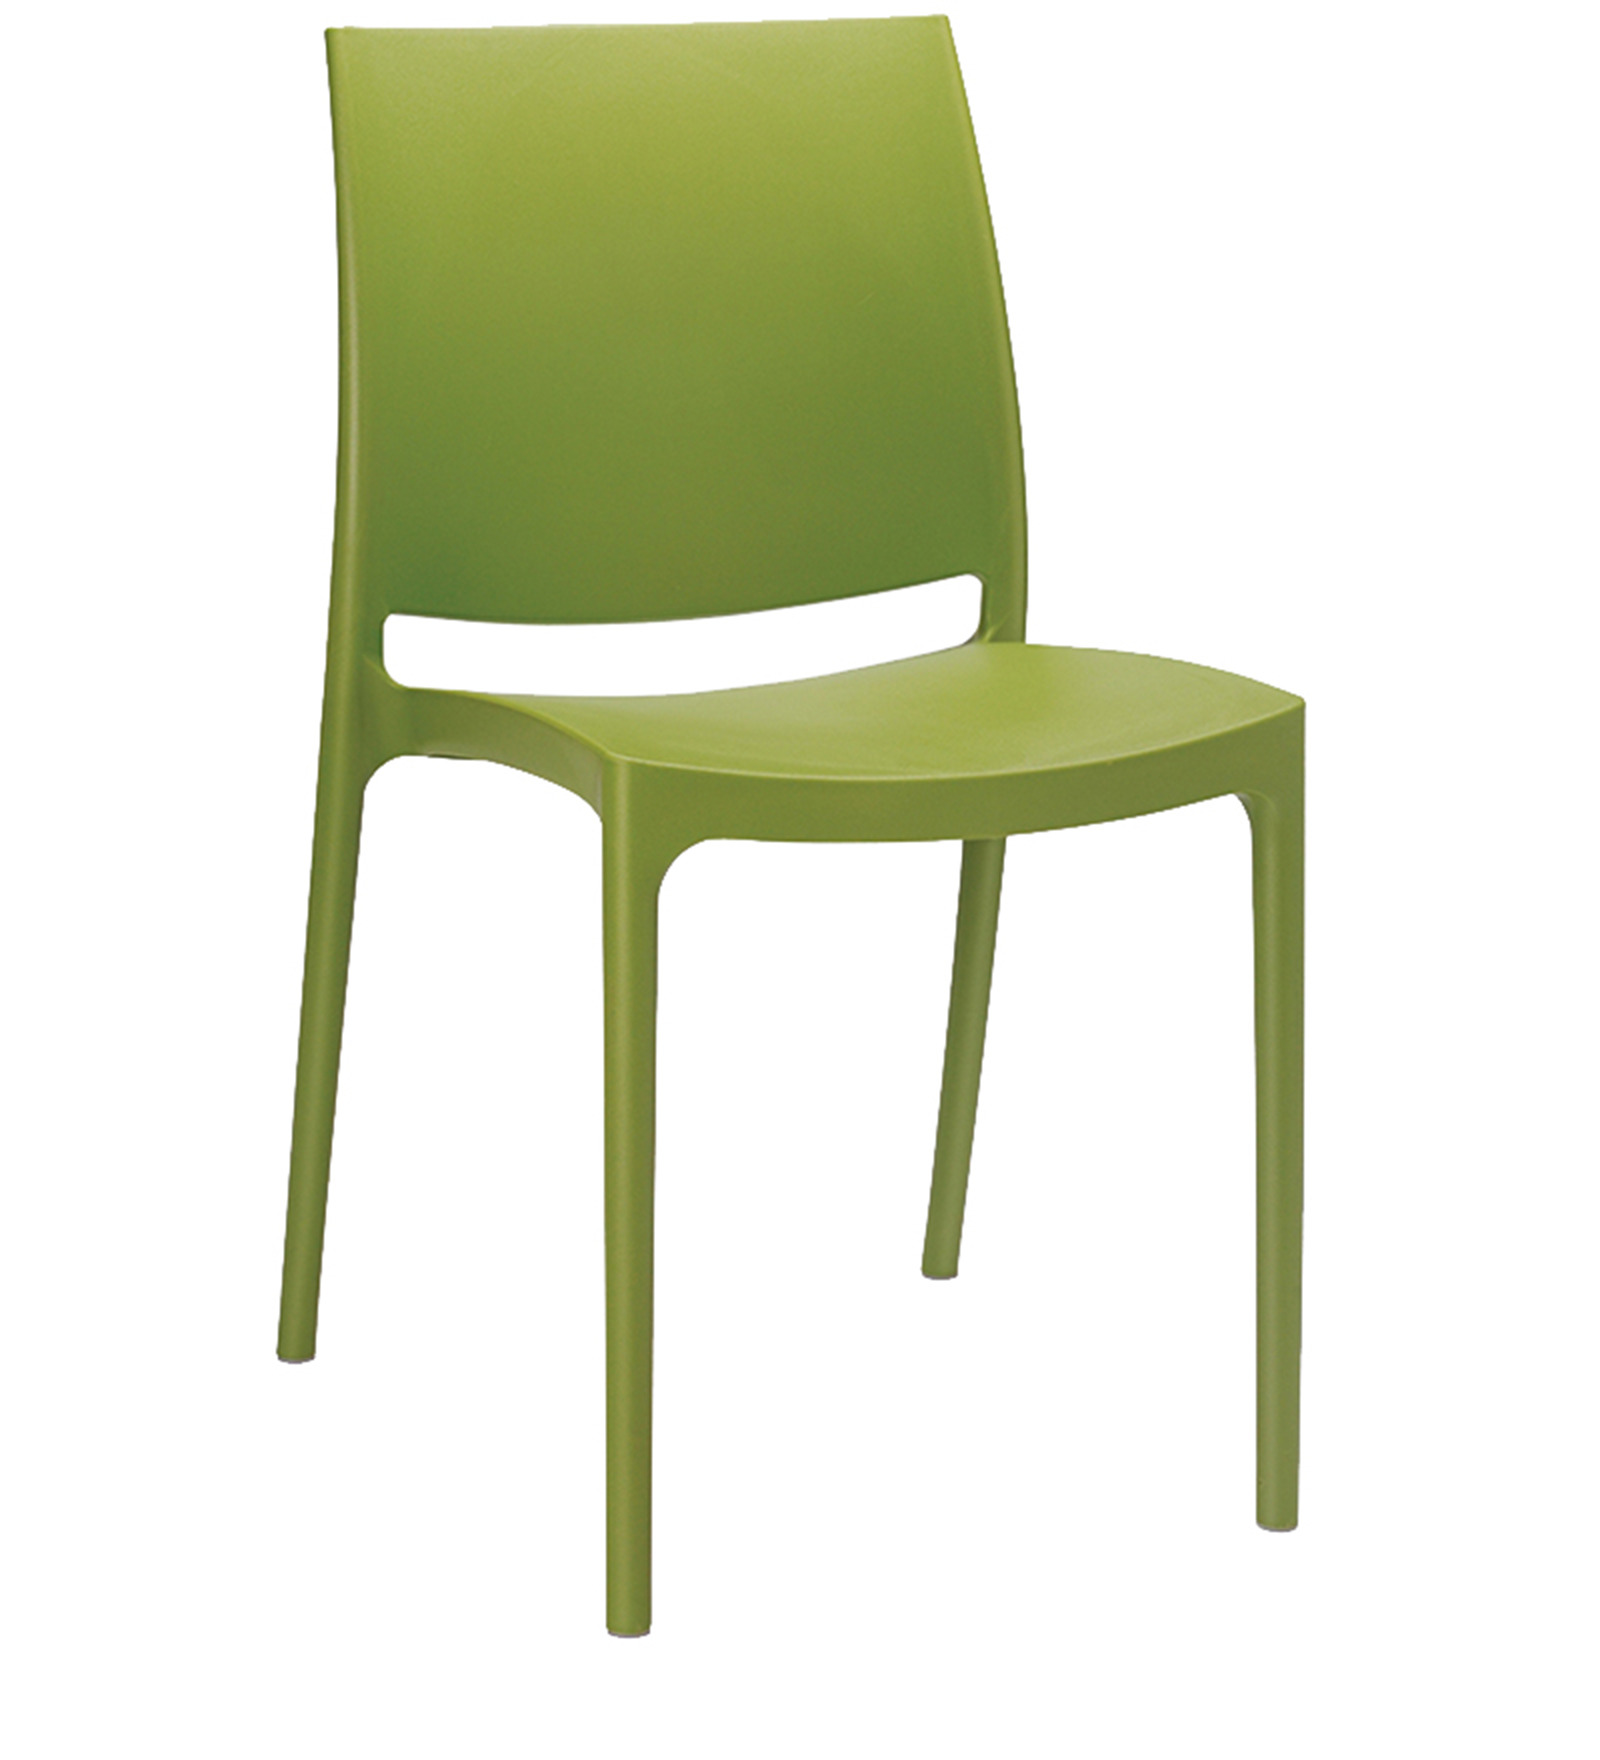Novella Chair in Green Colour by Nilkamal: (267, 18, 1310, 1634)
